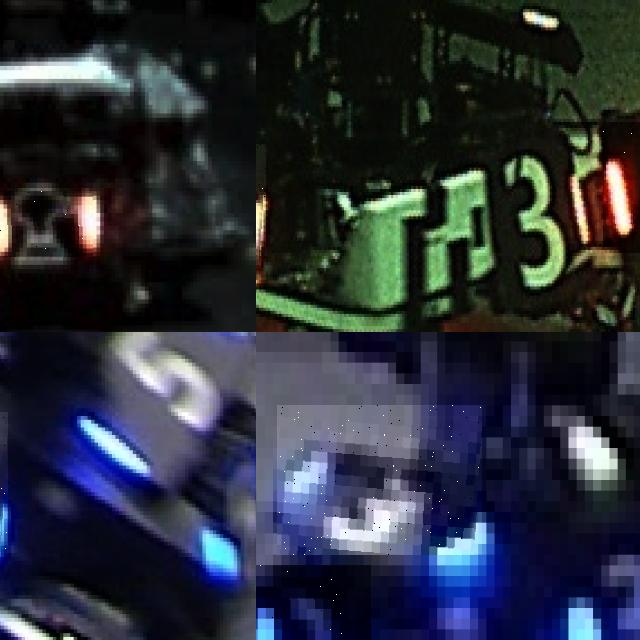B3: (277, 405, 482, 555), (535, 501, 640, 640), (256, 565, 371, 640)
R4: (603, 122, 640, 253)
Rs: (0, 191, 92, 256)
